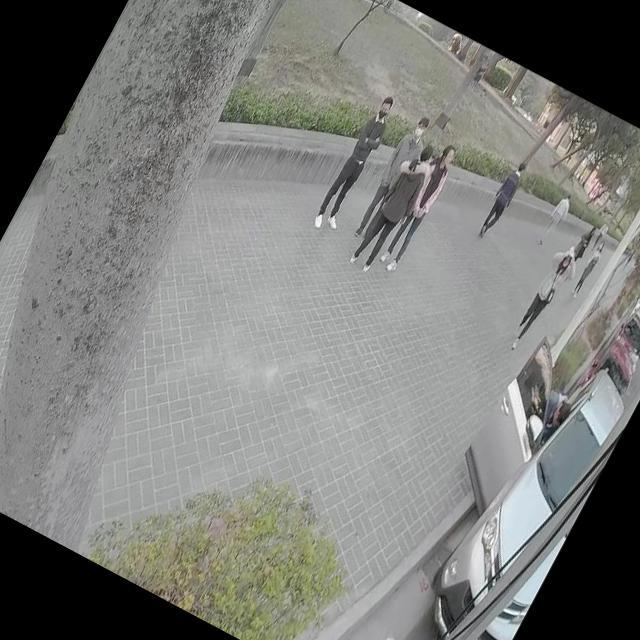person: (348, 136, 440, 277), (310, 90, 400, 234), (378, 138, 462, 272), (353, 108, 431, 234), (506, 236, 586, 354), (470, 154, 530, 243), (531, 183, 580, 252), (529, 388, 576, 448), (570, 239, 607, 298), (565, 223, 595, 269)
